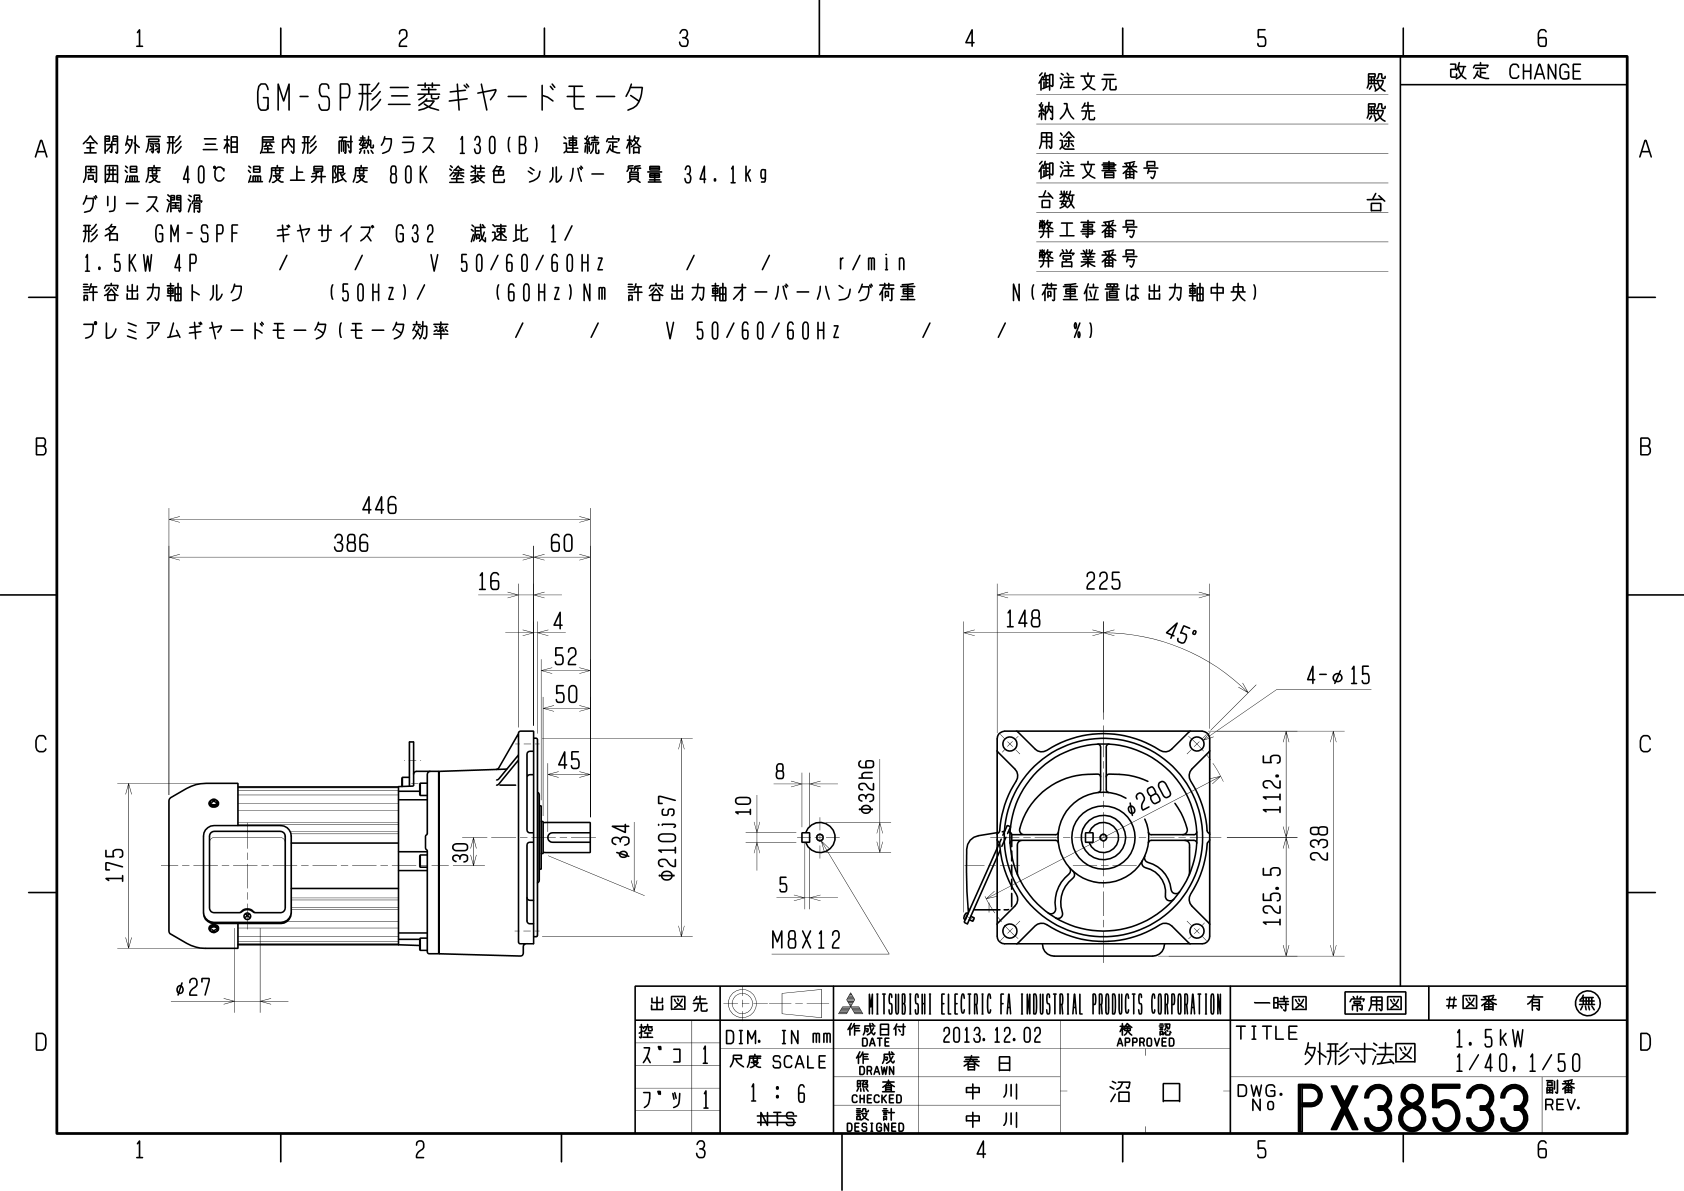GM_SP_屋内_三相_フランジ: (77, 424, 1385, 971)
